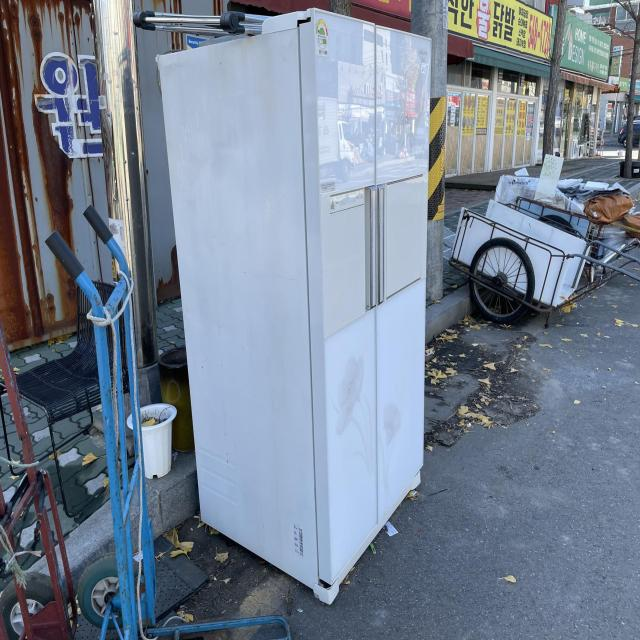refrigerator: (154, 6, 433, 607)
